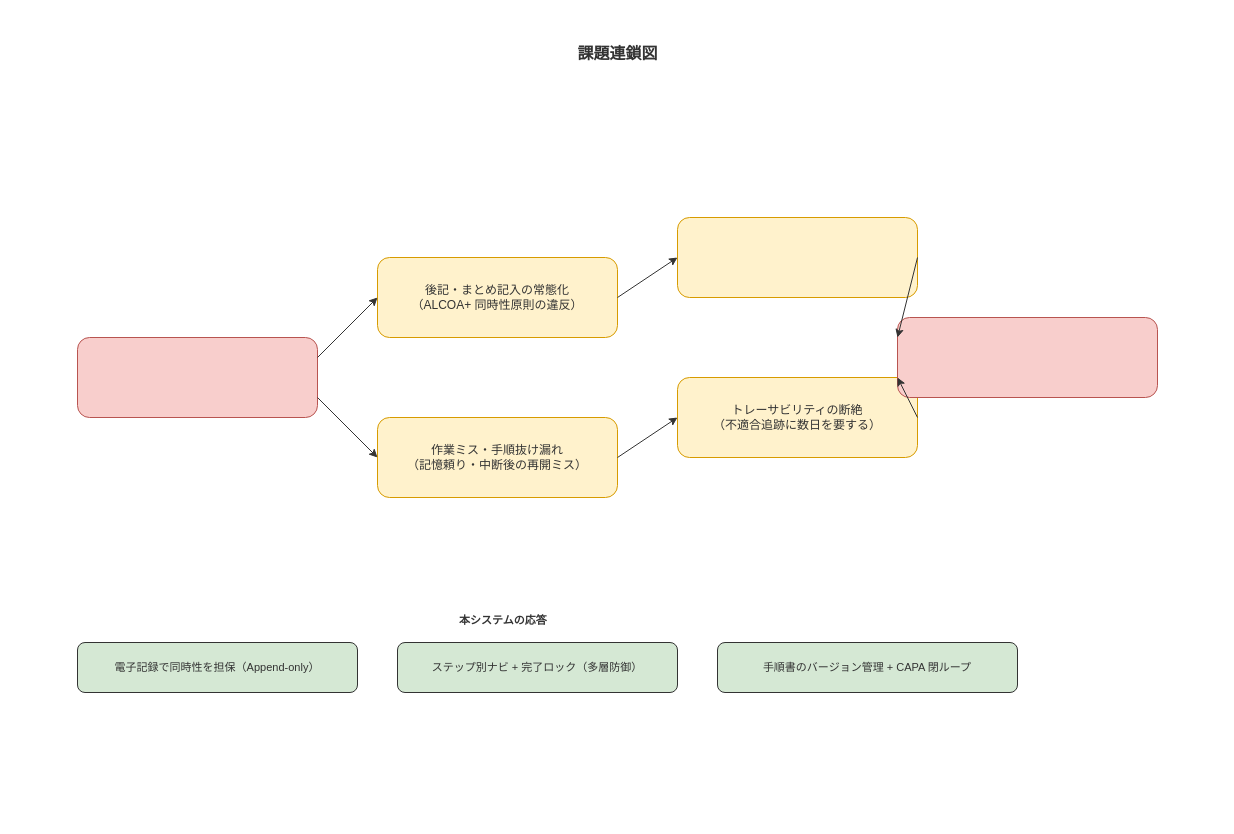
Some shapes in this 1234 by 834 pixel diagram are drawn without their labels. Each missing label, with the box of its shape:
WAI / WAD の制度的乖離 （手順書と現場作業のギャップが放置）: (76, 336, 318, 418)
暗黙知の消失 （熟練者退職でノウハウが失われる）: (676, 216, 918, 298)
監査リスク・顧客信頼の喪失 （リコール範囲特定困難・規制対応遅延）: (896, 316, 1158, 398)
